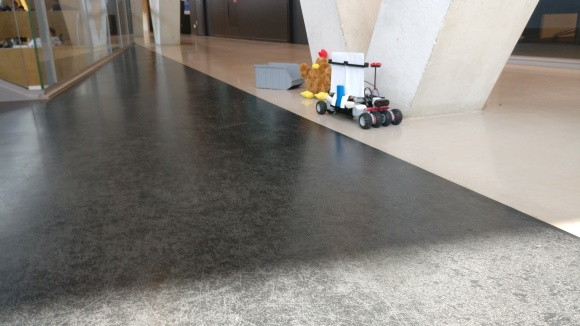car: (315, 50, 403, 130)
tray: (253, 61, 305, 91)
